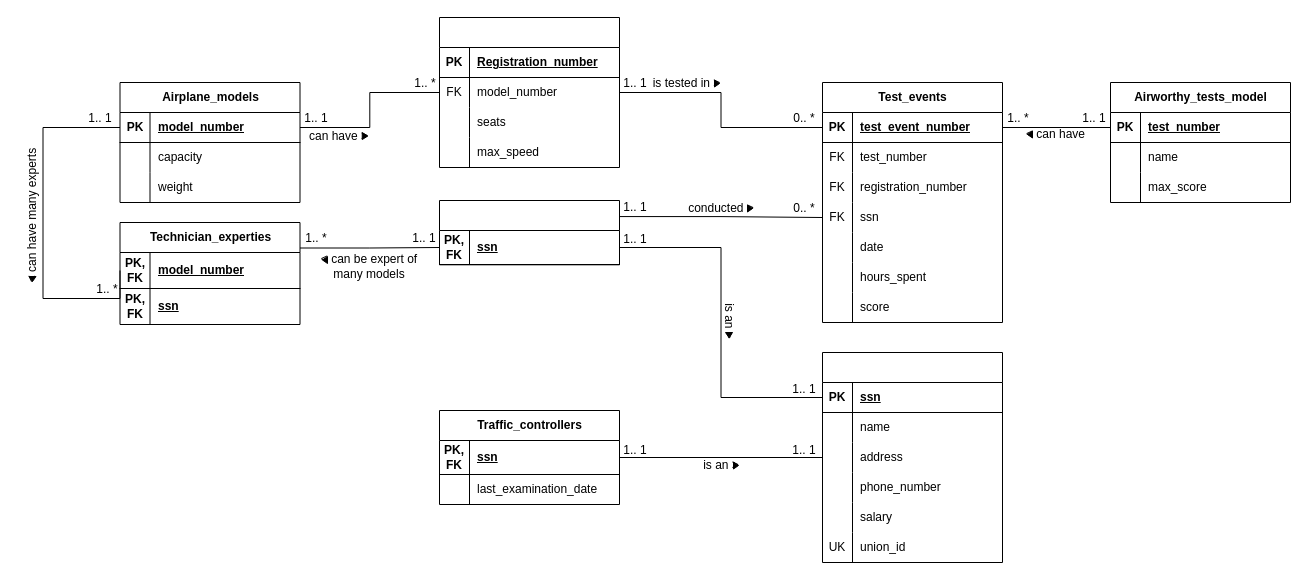
This 1308x580 diagram has some shape labels left out. The shapes that lost their labels are listed below. From the top down, each one's box as (x1, y1, x2, y2) in pixels, then its label:
(438, 16, 620, 168): Airplane
(438, 200, 620, 265): Technicians
(822, 352, 1002, 562): Employee
